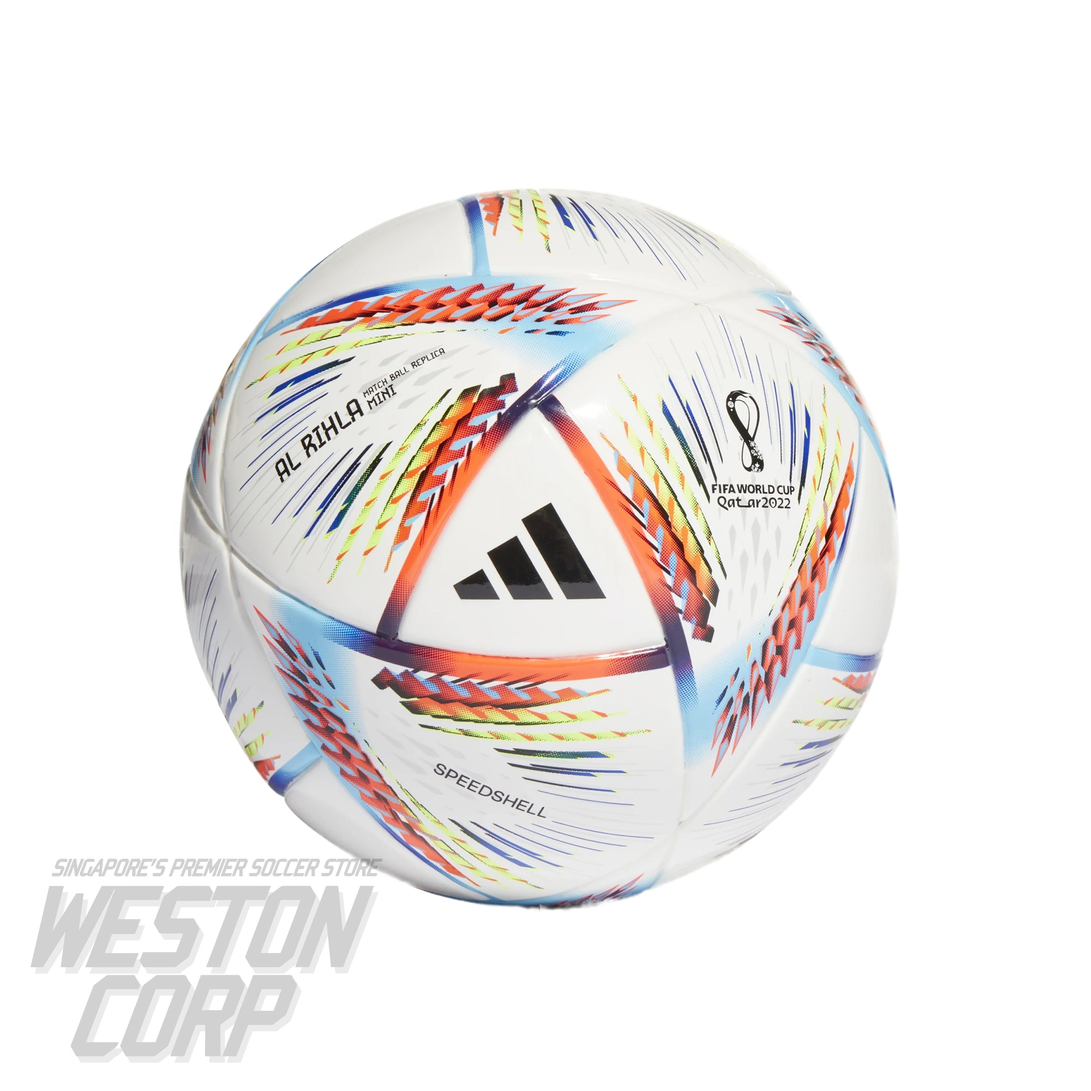sphere: (180, 189, 897, 910)
